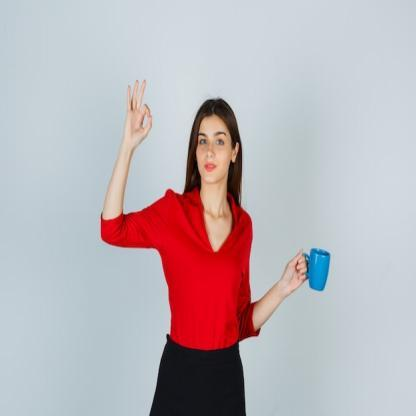ok: (121, 73, 154, 152)
